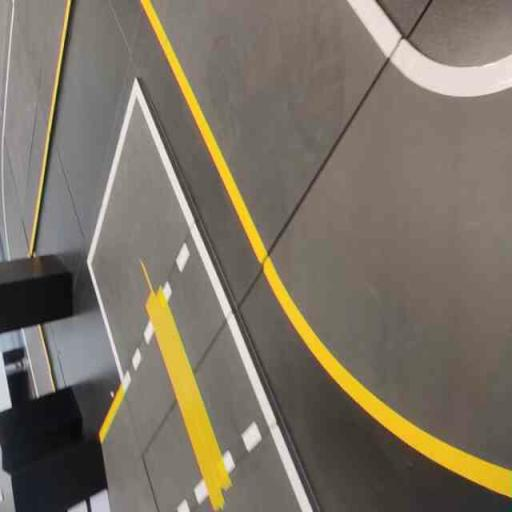right: (241, 33, 511, 496)
